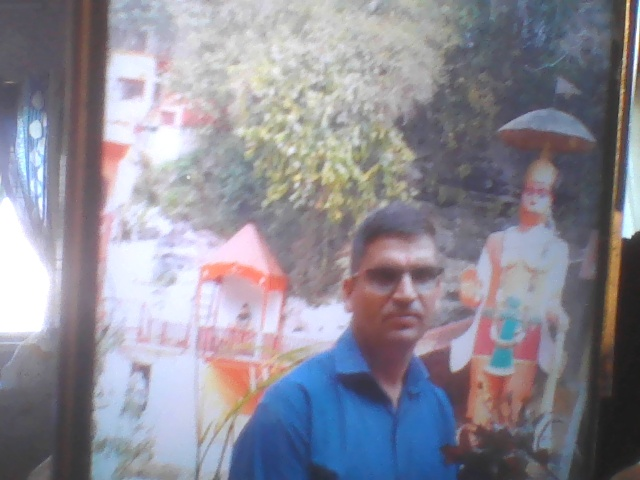fake: (343, 193, 465, 366)
